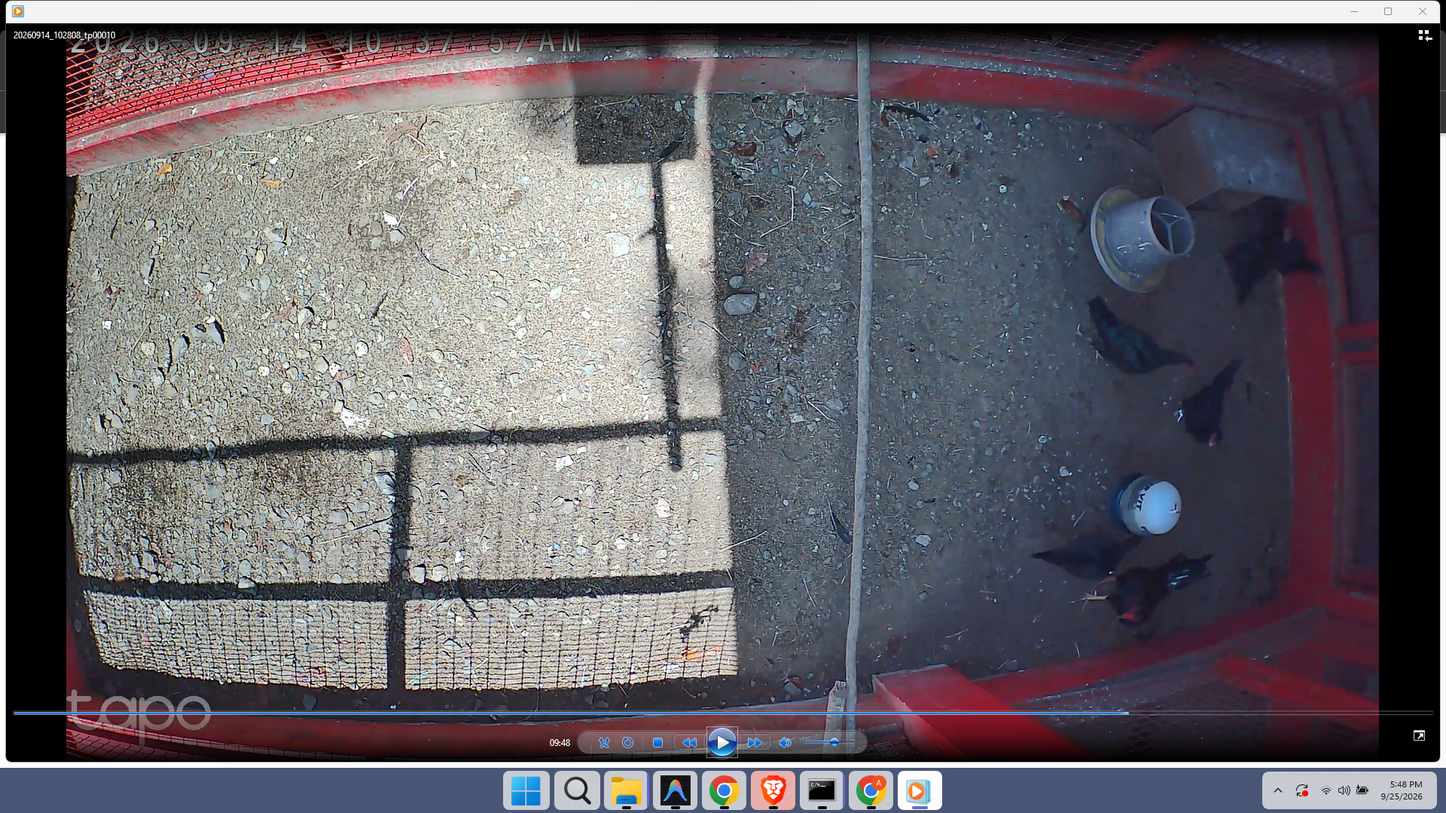Chicken: (1076, 294, 1196, 376), (1169, 357, 1244, 450), (1031, 524, 1150, 576)
Drinker: (1109, 471, 1184, 539)
Feeder: (1084, 182, 1194, 294)
Leg_Band_White: (1176, 409, 1184, 424)
Rooster: (1078, 551, 1218, 629)
